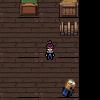Hide: (58, 21, 79, 38), (19, 0, 39, 16)
Obstacle: (58, 0, 79, 18)
Victim: (43, 39, 56, 60)
Win: (59, 78, 77, 97)
